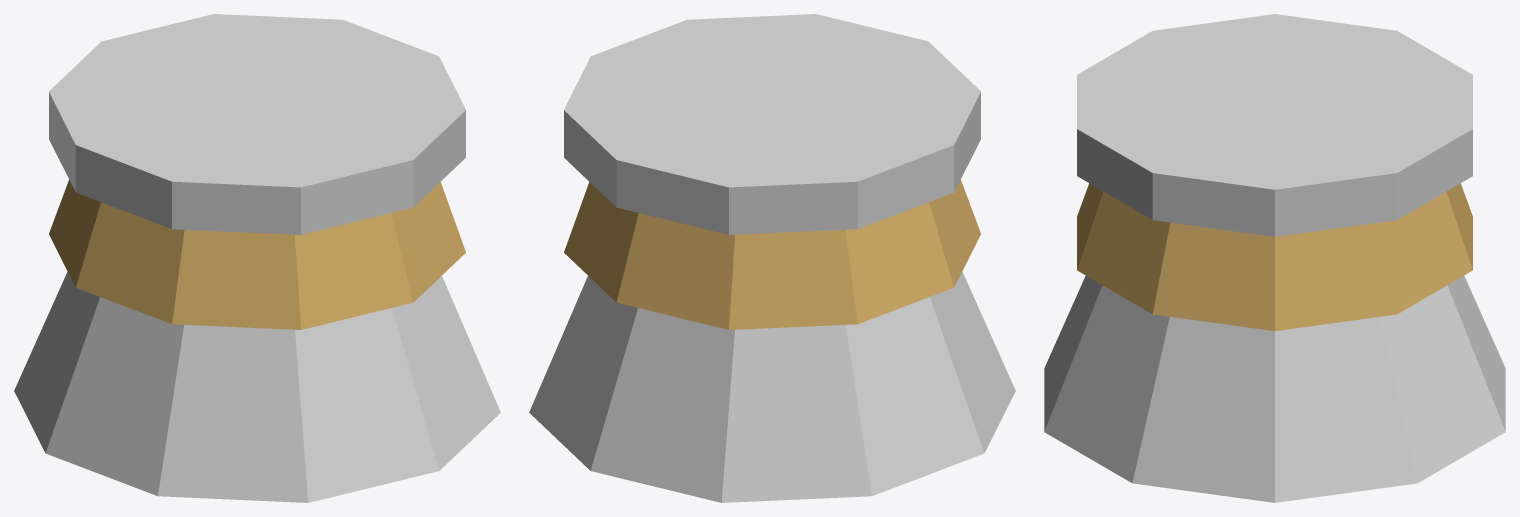
Rendered from uplight.glb.
3 renders of one model, left to right at view 1: azimuth 30°, elevation 25°; view 2: azimuth 150°, elevation 25°; view 3: azimuth 270°, elevation 25°, orthographic.
Visible parts, largest first — view 1: uplight, glow; view 2: uplight, glow; view 3: uplight, glow.
Boxes of the visible parts, x1=… form: uplight: x1=14, y1=14, x2=500, y2=502; glow: x1=49, y1=179, x2=465, y2=329; uplight: x1=529, y1=14, x2=1015, y2=502; glow: x1=564, y1=179, x2=980, y2=329; uplight: x1=1044, y1=14, x2=1505, y2=502; glow: x1=1077, y1=183, x2=1472, y2=330.
Bounding box in the file's own units: 0.322 × 0.2185 × 0.3062.
